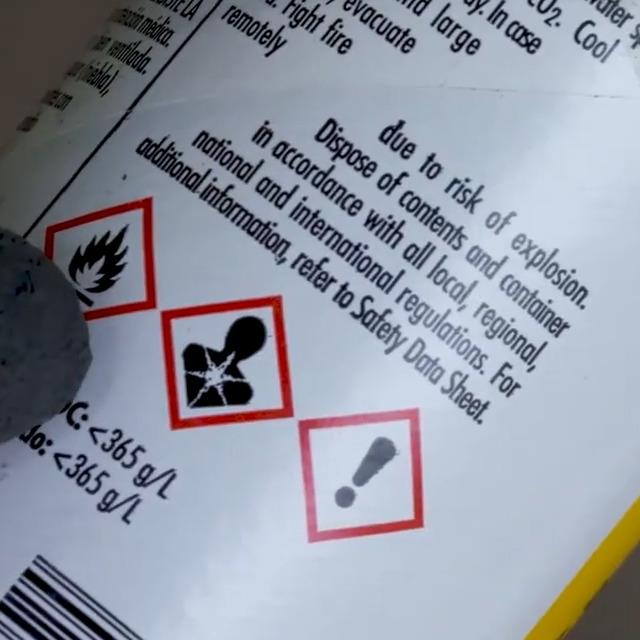Gloves: (0, 177, 92, 475)
